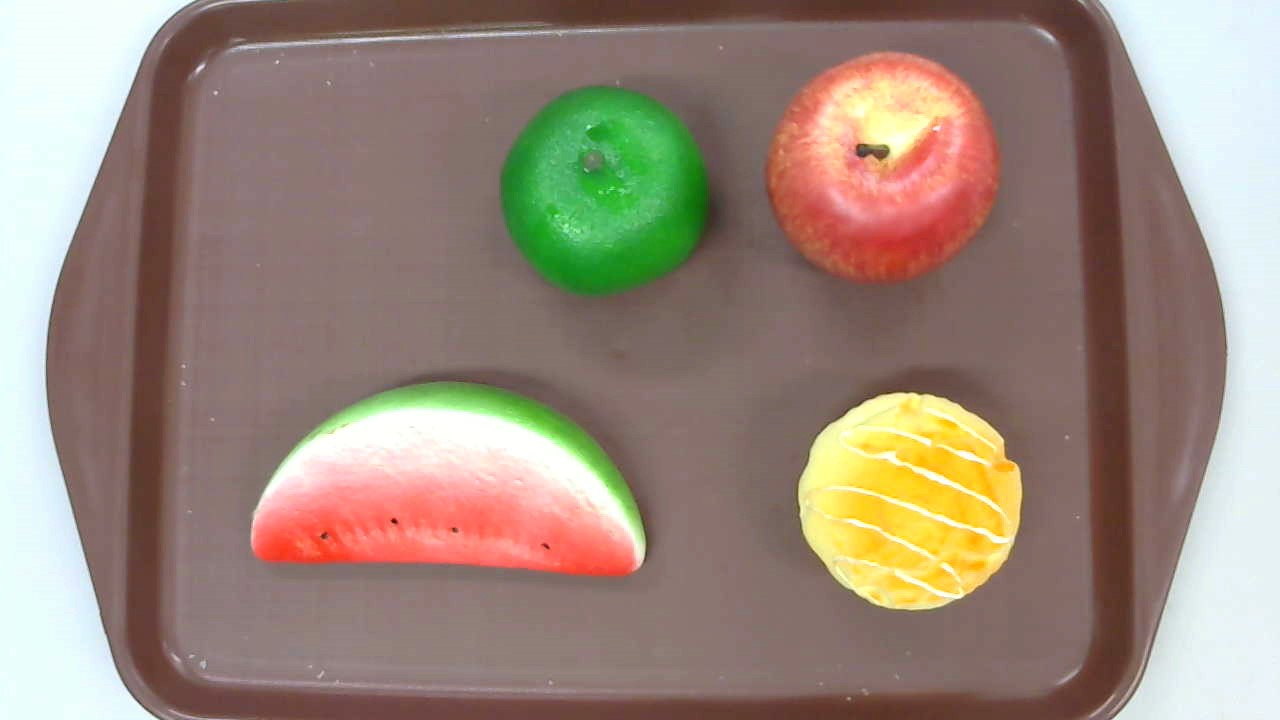cupcake: (797, 392, 1024, 610)
green orange: (500, 85, 708, 299)
red apple: (765, 49, 1000, 285)
water melon: (249, 381, 647, 579)
